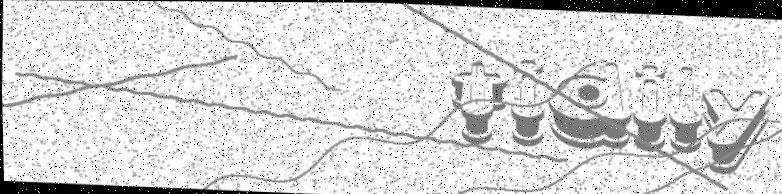d: (542, 51, 634, 149)
i: (505, 55, 550, 148), (630, 55, 670, 151)
l: (669, 58, 704, 153)
t: (447, 59, 509, 144)
y: (699, 82, 773, 174)
